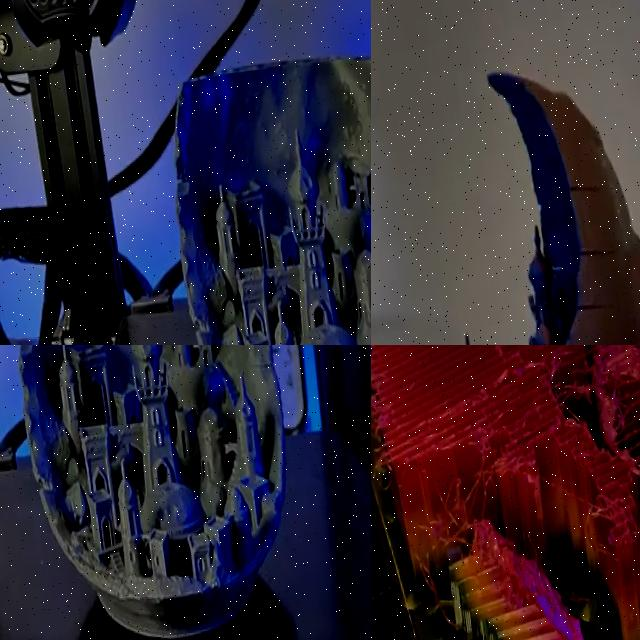spaghetti: (445, 345, 640, 488), (405, 470, 567, 639), (585, 492, 636, 564)
